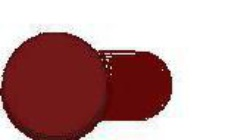Switch: (1, 1, 224, 139)
